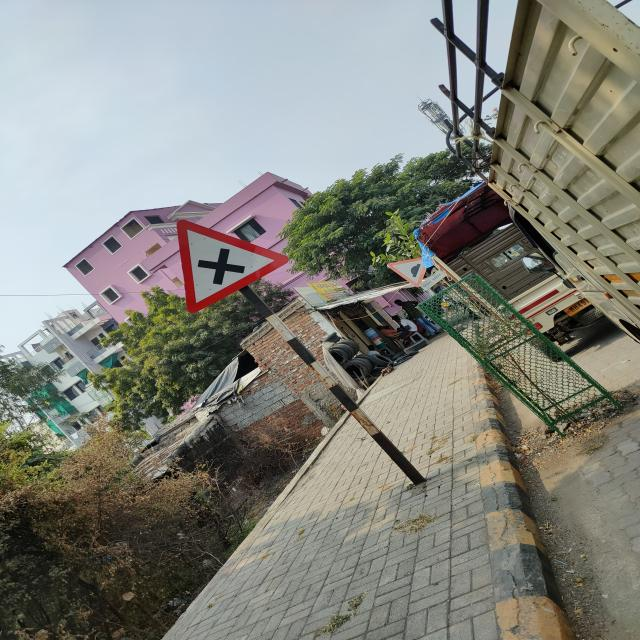cross_road: (172, 212, 292, 317)
